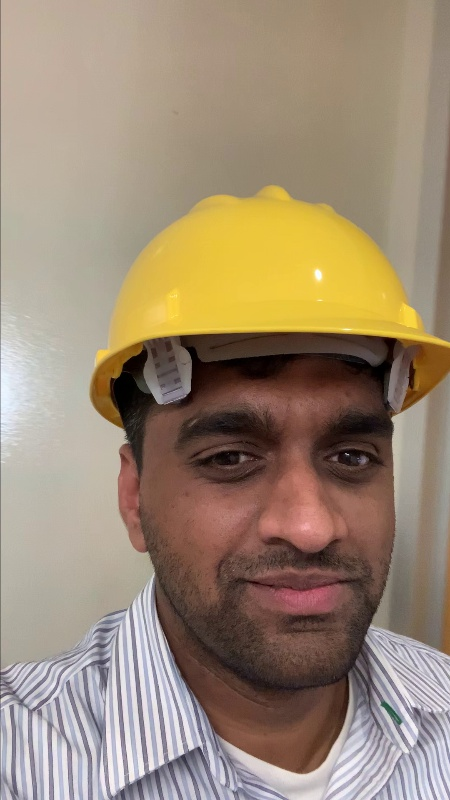helmet: (66, 171, 438, 356)
